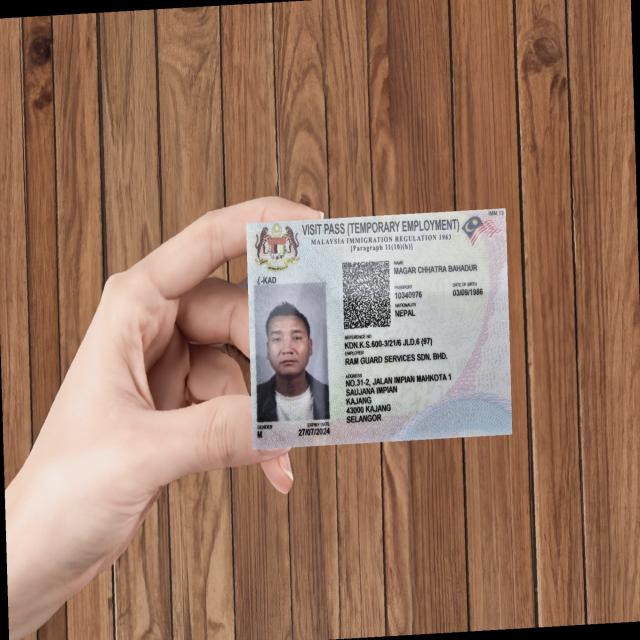ikad-temp: (245, 208, 513, 449)
